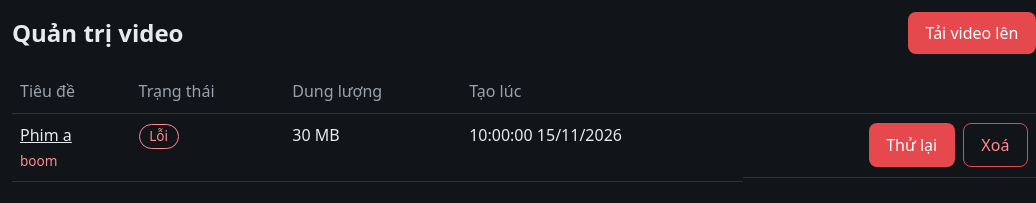
Test case: AdminVideosPage › thử lại gọi API rồi tải lại danh sách
The width and height of the screenshot is (1036, 203).
What coordinates should you click on to do the following:
click the button "Thử lại"
I would click on:
 (912, 145)
Its box is [869,123,955,167].
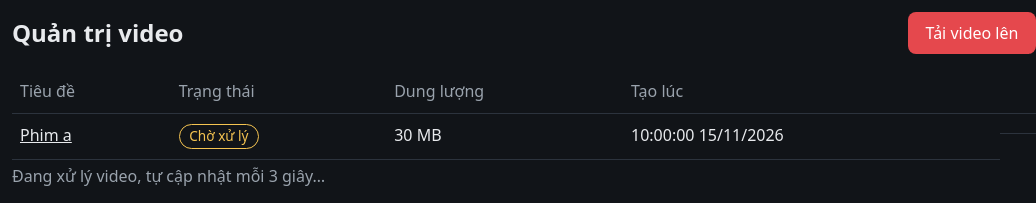
Result: the text "Chờ xử lý" is shown at [179,124,259,149]
